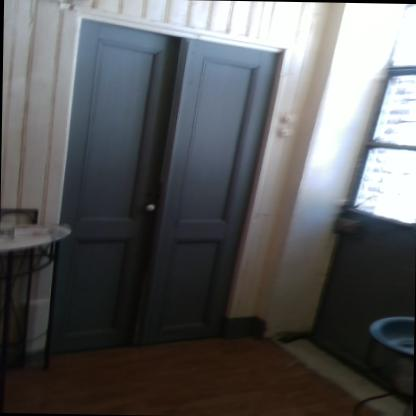closed: (48, 1, 294, 358)
